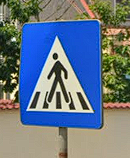trecere_pietoni: (18, 22, 105, 131)
